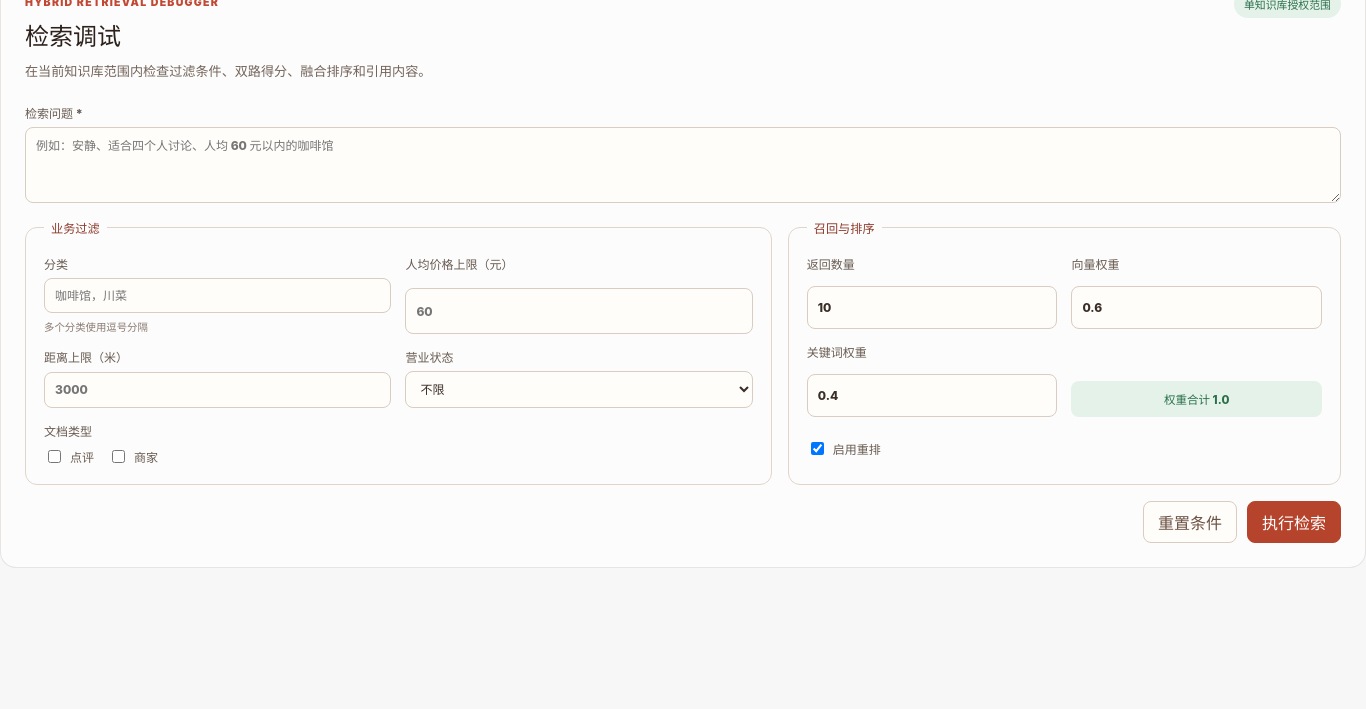
Test: RetrievalDebugPanel › shows BM25, vector and fusion scores and opens the citation preview
This screenshot has width=1366, height=709.
Type "四人讨论" into the text box with test id "search-query".
click(683, 165); type("四人讨论")  # box [25, 127, 1341, 203]
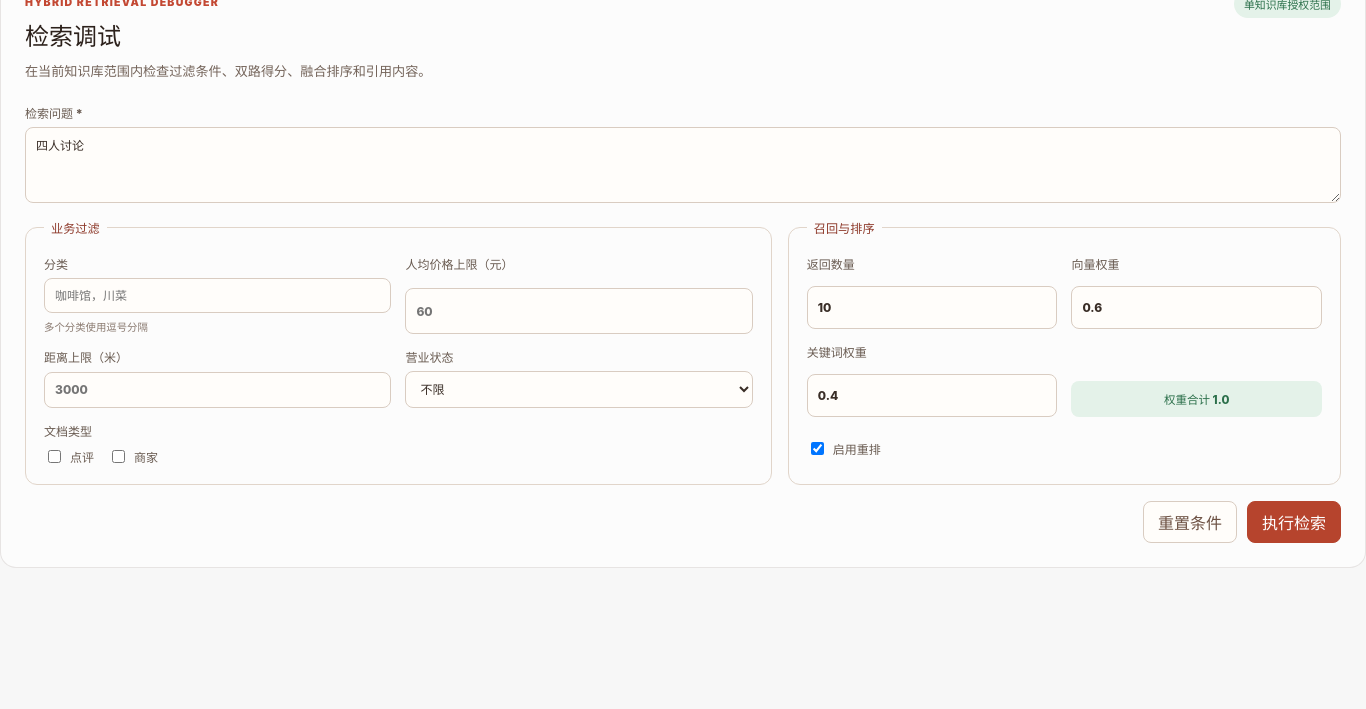
Submit the form from the button with test id "search-submit", box [1247, 501, 1341, 543]
(page scrolled)
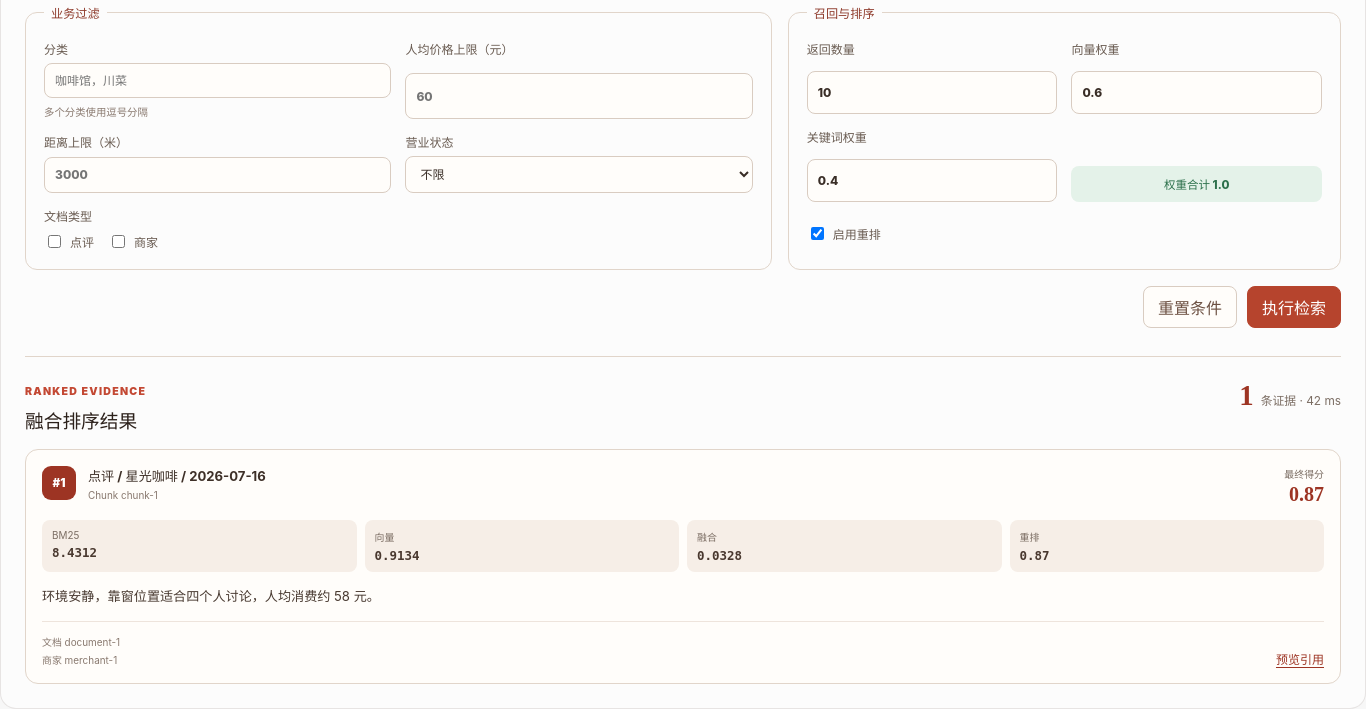
Expected: the element with class "result-card" shows "BM25", [52, 529, 79, 541]
Expected: the element with class "result-card" shows "8.4312", [52, 545, 97, 560]
Expected: the element with class "result-card" shows "向量", [374, 531, 394, 543]
Click the button "预览引用".
click(1300, 659)  # box [1276, 650, 1324, 667]
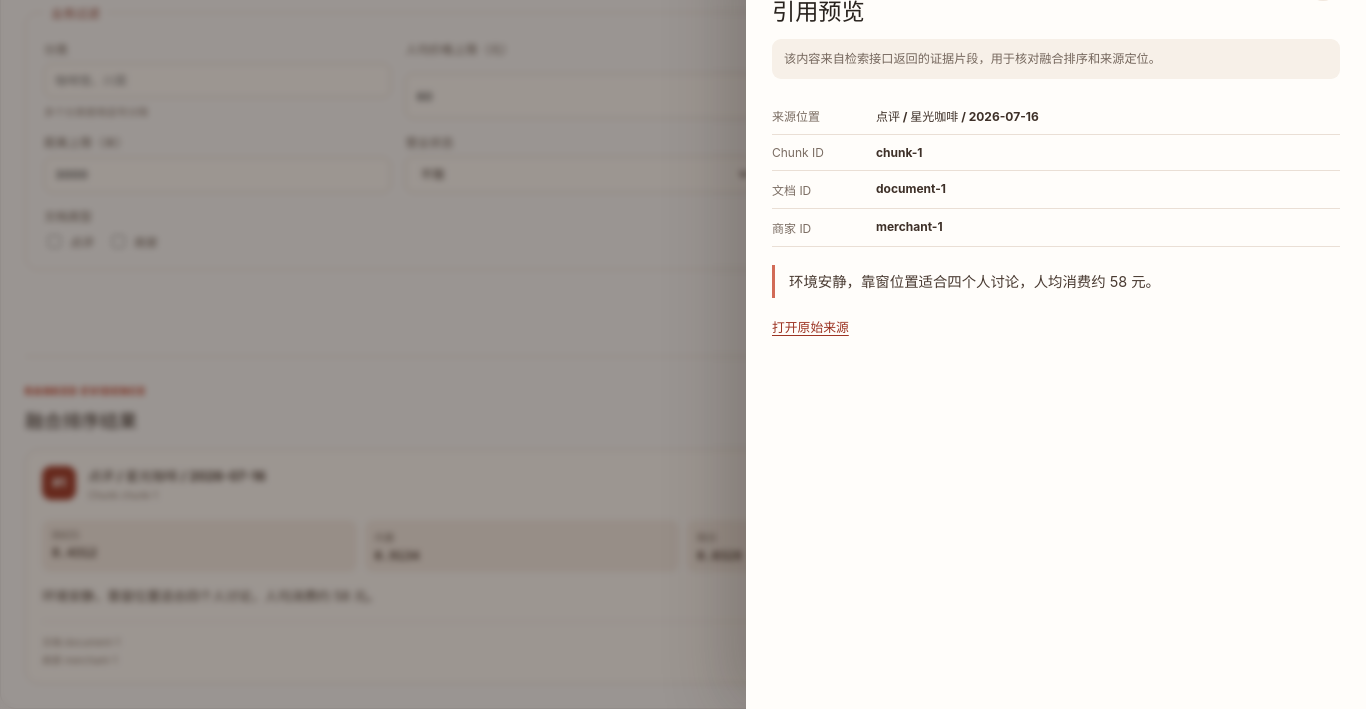
Expected: the dialog shows "点评 / 星光咖啡 / 2026-07-16", [876, 109, 1039, 124]
Expected: the dialog shows "靠窗位置适合四个人讨论", [789, 273, 1160, 290]
